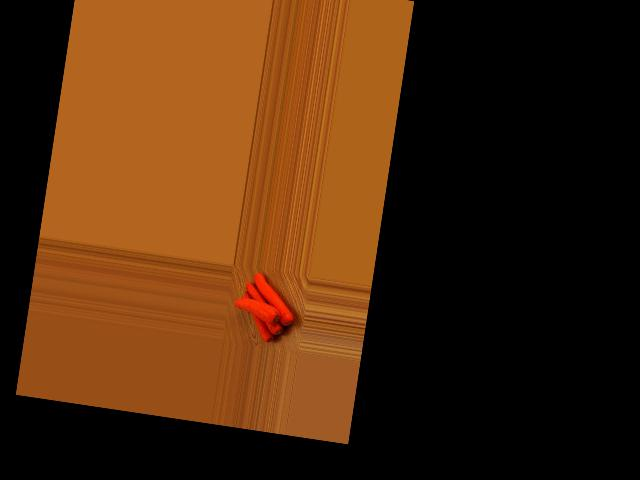carrot: (240, 303, 280, 348)
